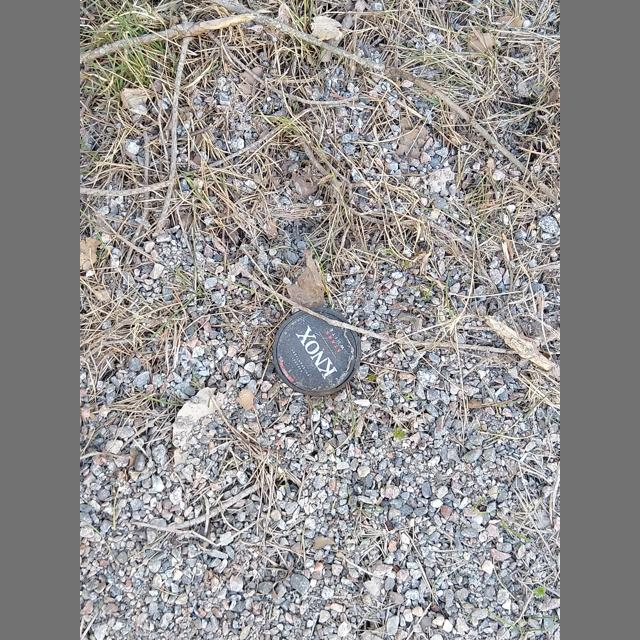litter: (273, 307, 361, 397)
